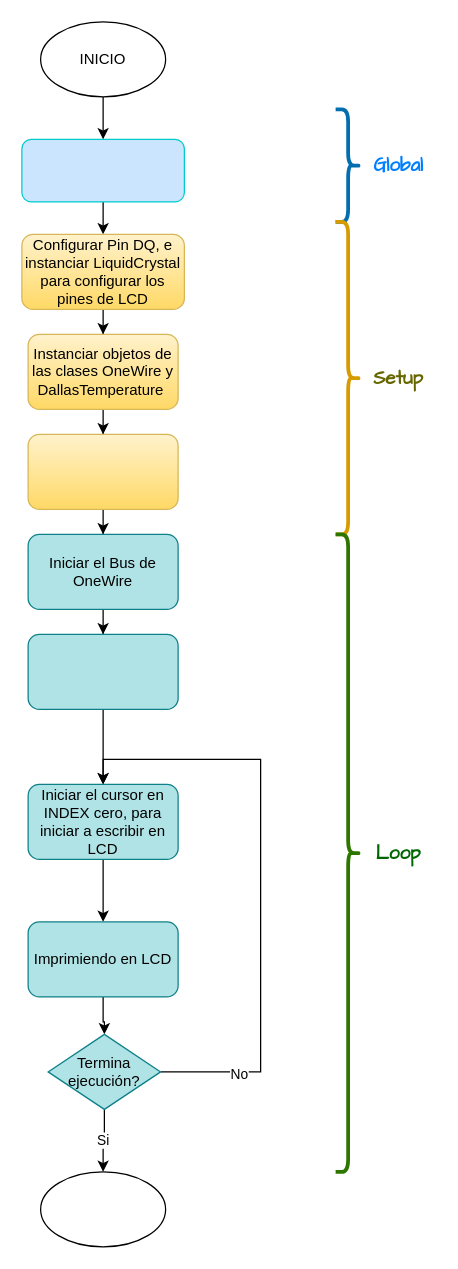
Some shapes in this 458 by 1269 pixel diagram are drawn without their labels. The centre of each missing label's shape, as x and y in pixels:
"Configurar Tx y RX de LCD" belongs at (x=102, y=471).
"FIN" belongs at (x=102, y=1209).
"Importar Librerías" belongs at (x=102, y=170).
"Mandar comandos de temperatura al Sensor" belongs at (x=102, y=671).
